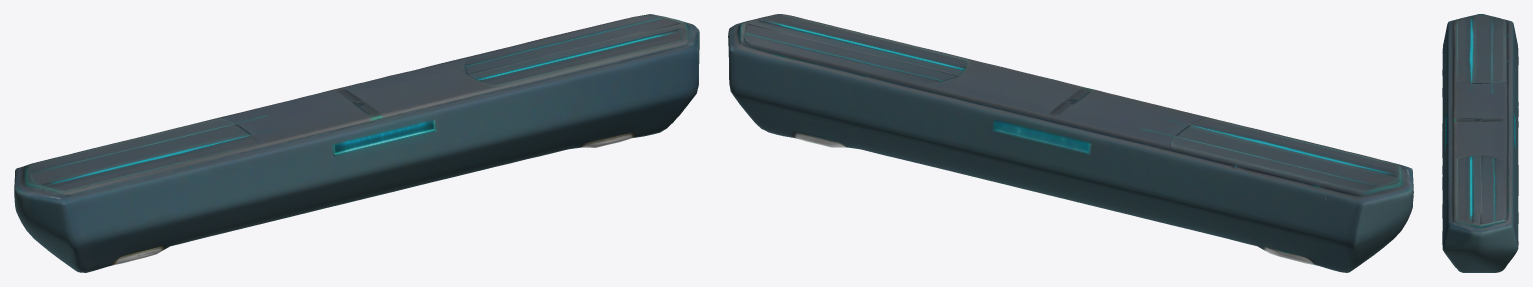
Rendered from A_spinner_arm_a_slee_0926182015_texture.fbx.
3 views of the same model, side by side, from view 1: azimuth 30°, elevation 25°; view 2: azimuth 150°, elevation 25°; view 3: azimuth 270°, elevation 25° (orthographic). The views are drawn at different scales.
Visible parts, largest first — view 1: Mesh0; view 2: Mesh0; view 3: Mesh0.
Boxes of the visible parts, <box> form: Mesh0: <box>14,14,699,272</box>; Mesh0: <box>728,14,1413,272</box>; Mesh0: <box>1442,14,1518,272</box>.
Bounding box in the file's own units: 191 × 24.65 × 27.95.
1 material, 1 textured.
